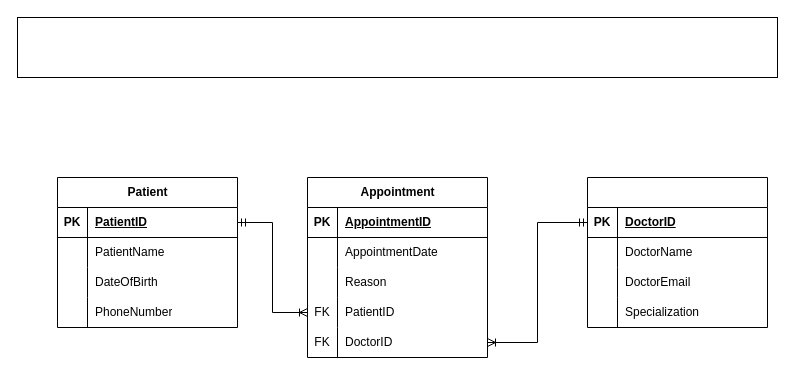
Image size: 795x375. Some labels were removed from this diagram. Here are the shapes that lost their labels. From the top down, the box of each, then its label:
(16, 16, 778, 78): Exam 2 Part 1 Question 2
(586, 176, 768, 328): Table
